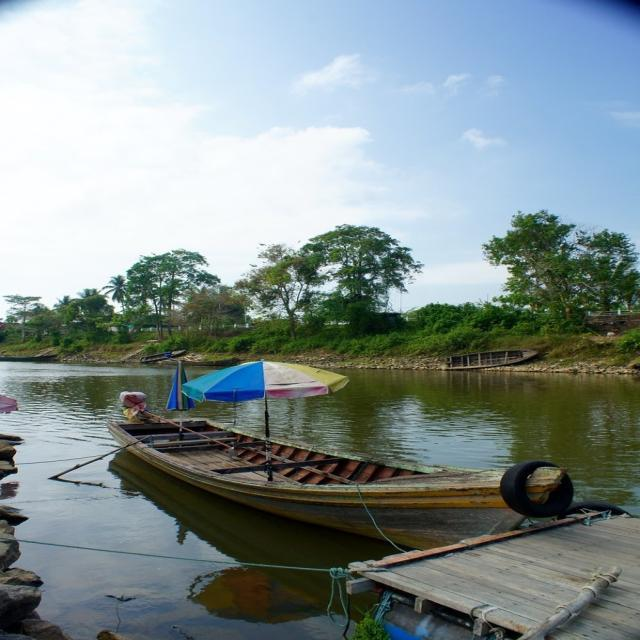boat: (103, 389, 564, 548)
